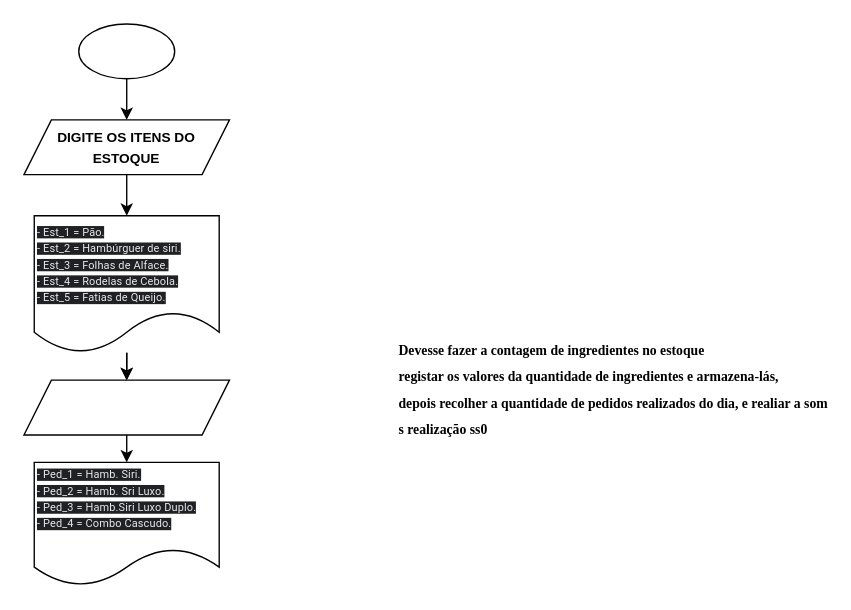
This 851x610 diagram has some shape labels left out. Each missing label, with the centre of its shape:
DIGITE OS PEDIDOS DO DIA: the point at 126,407
INÍCIO: the point at 126,51
